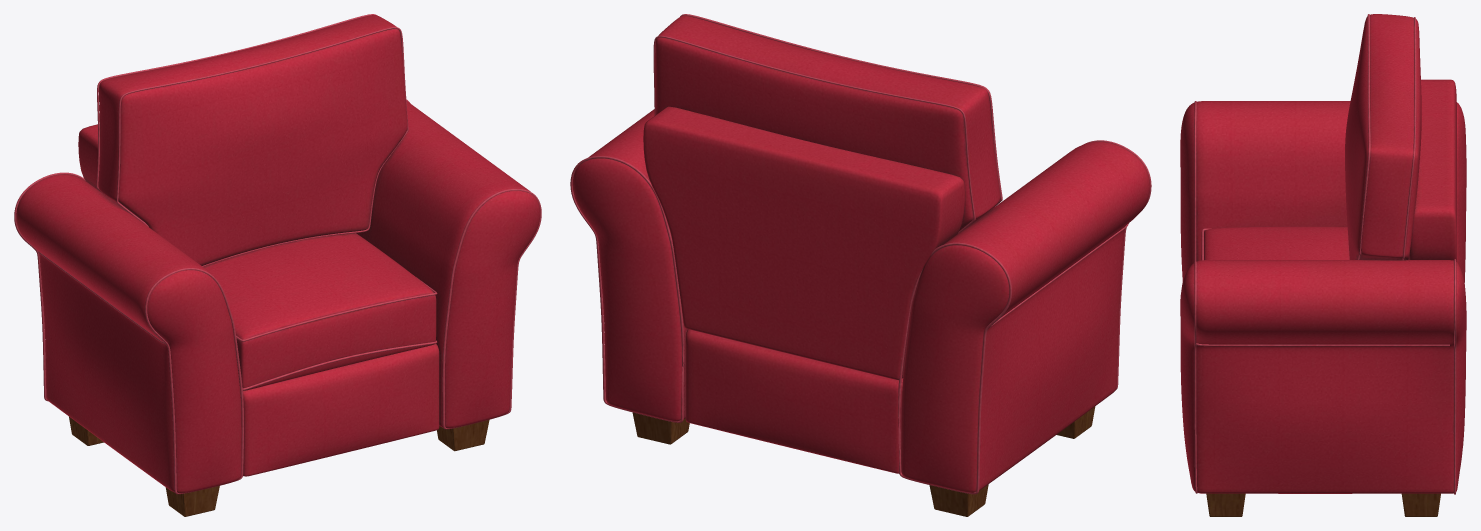
The model's file is velvet_sofa_3.glb.
The picture shows the model from 3 angles, left to right: view 1: azimuth 30°, elevation 25°; view 2: azimuth 150°, elevation 25°; view 3: azimuth 270°, elevation 25°; orthographic projection. The views are drawn at different scales.
Parts seen in each view (by area): view 1: SOFA3; view 2: SOFA3; view 3: SOFA3.
Part boxes in pixels (<box>): SOFA3: <box>14,14,541,516</box>; SOFA3: <box>570,14,1151,516</box>; SOFA3: <box>1180,14,1466,516</box>.
Size of the model in its own units: 1.21 by 1.05 by 0.7454.
1 material, 1 textured.
